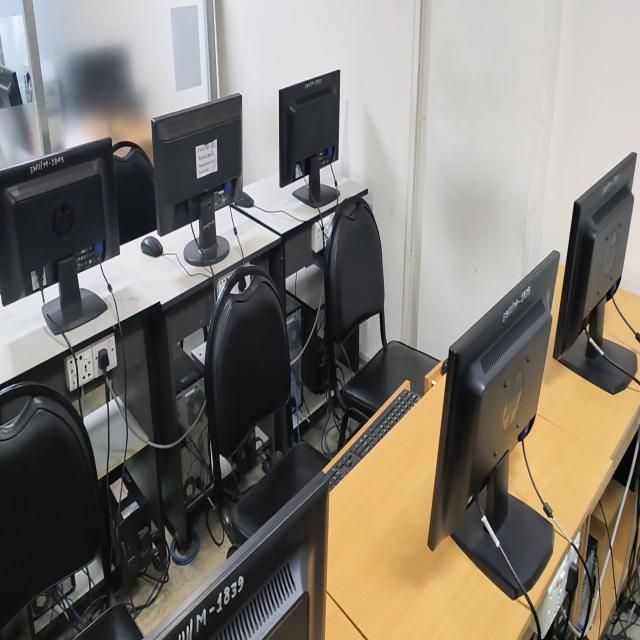Chair: (324, 196, 439, 451), (0, 382, 107, 630), (204, 265, 291, 481), (229, 441, 326, 546), (75, 560, 143, 639), (114, 142, 156, 244)
Cpu: (174, 346, 211, 505), (286, 293, 303, 422)
Keyboard: (325, 388, 421, 489)
Monitor: (428, 251, 559, 612), (145, 472, 328, 639), (0, 139, 120, 332), (553, 152, 636, 394), (152, 94, 242, 264), (279, 71, 340, 207)
Mouse: (140, 236, 163, 256), (233, 191, 254, 207)
